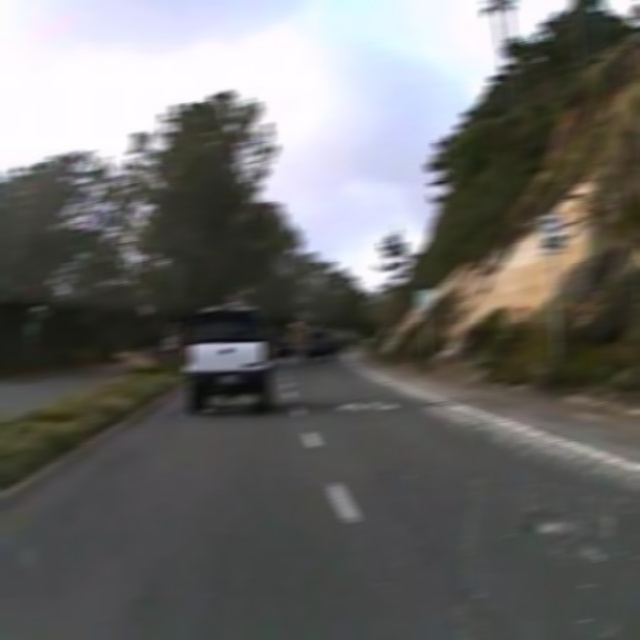speedLimit40: (538, 211, 564, 252)
